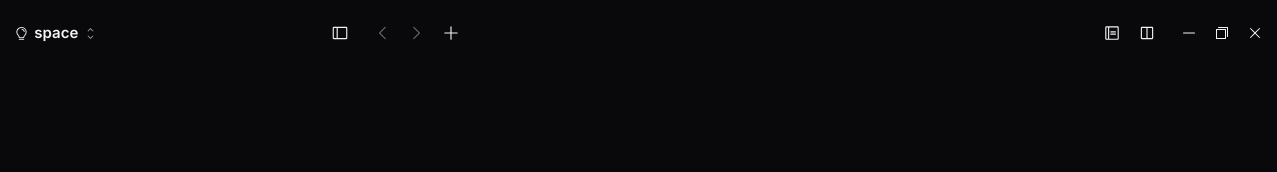
WindowControls › test Maximize reads Restore while the window is maximised
The width and height of the screenshot is (1277, 172).
Later steps or results of the test are not shown.
Click the button named "Restore".
click(1222, 33)  # box [1205,12,1238,54]
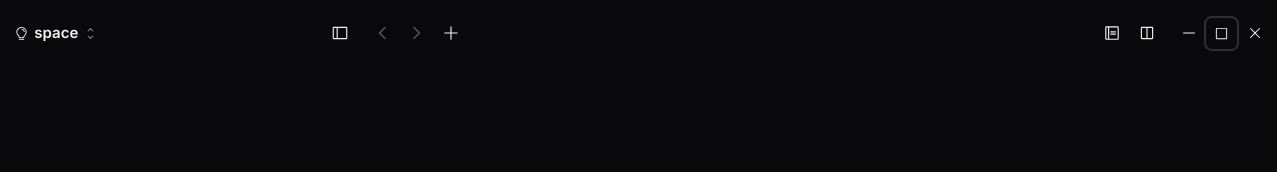
Expected: the button named "Maximize" is shown, [1205,12,1238,54]
